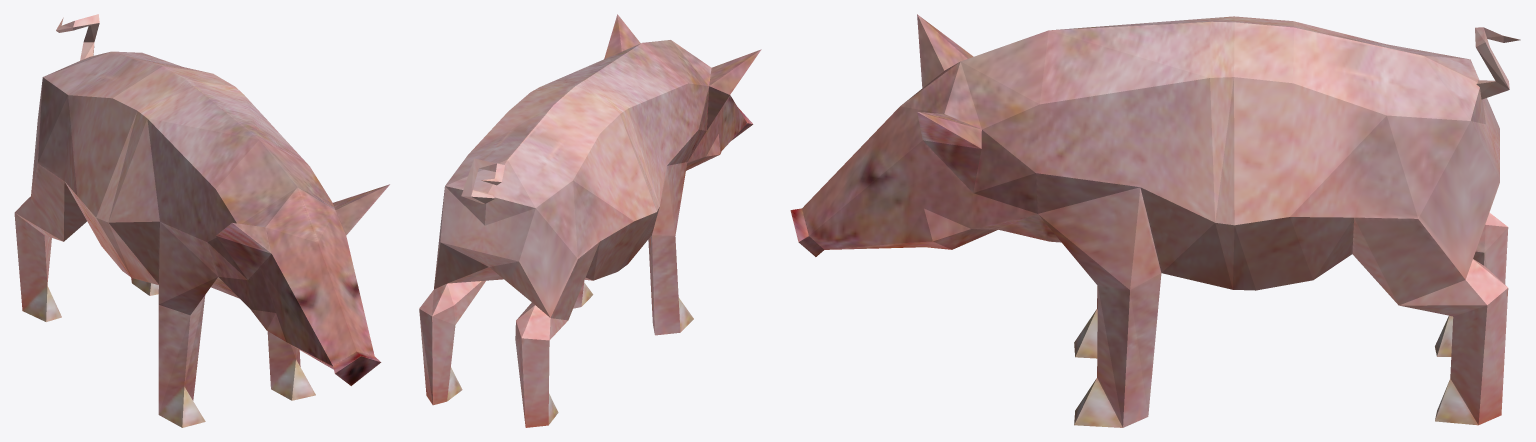
The model's file is pig.glb.
The picture shows the model from 3 angles, left to right: view 1: azimuth 30°, elevation 25°; view 2: azimuth 150°, elevation 25°; view 3: azimuth 270°, elevation 25°; orthographic projection. The views are drawn at different scales.
Bounding box in the file's own units: 0.0108 × 0.0164 × 0.0301.
1 material, 1 textured.
